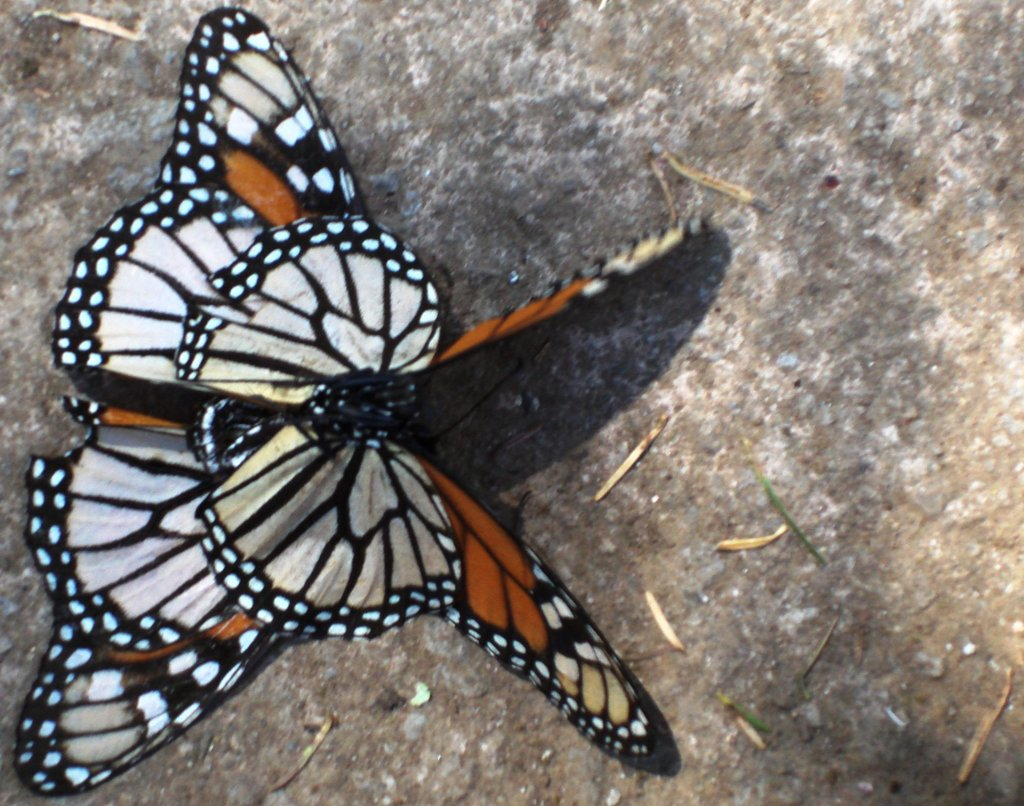Butterfly: (5, 13, 721, 800)
